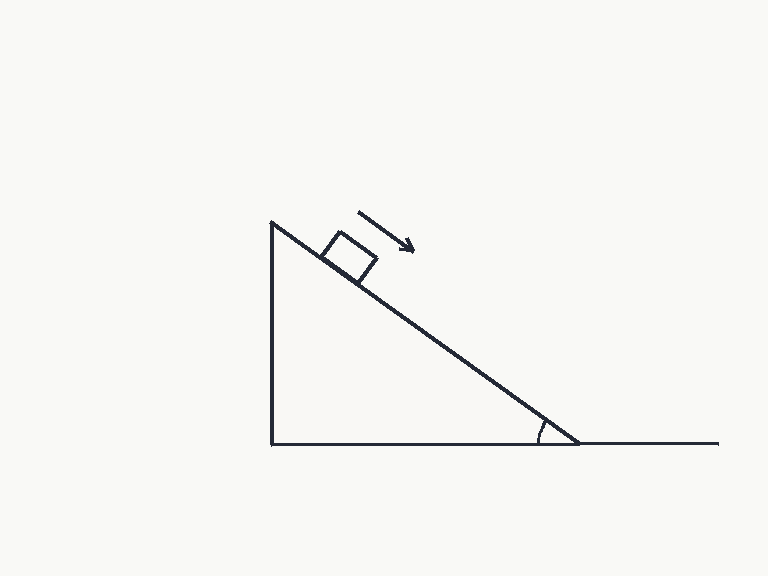block: (319, 229, 378, 285)
ramp: (269, 219, 580, 446)
